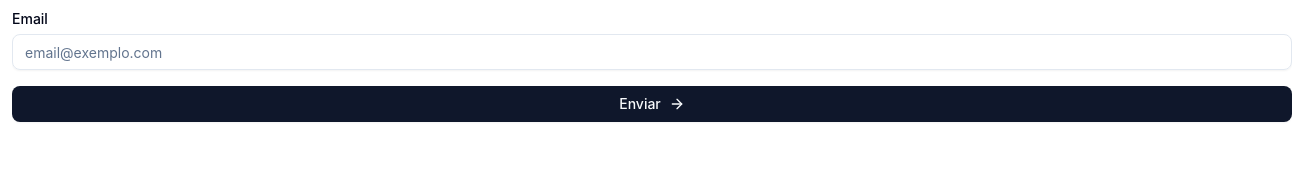
Test case: Development password recovery › shows the failure without a token
The width and height of the screenshot is (1304, 172).
Type "manager@example.test" into the field labelled "Email" at (652, 52), box [12,34,1292,70]
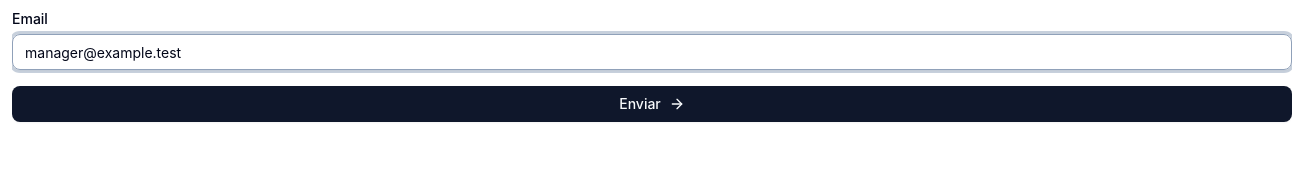
Click the button "Enviar" at (652, 104), box [12,86,1292,122]
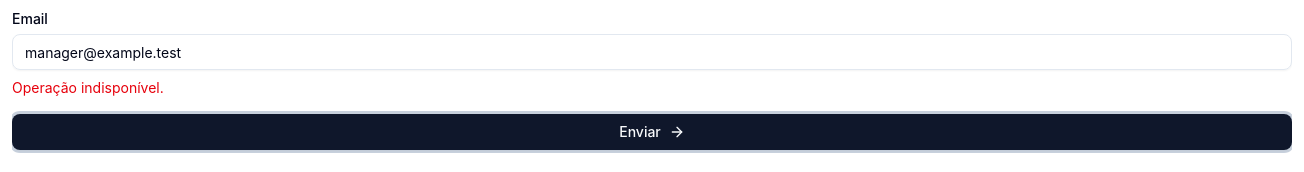
Result: the message reads "Operação indisponível." at [12,79,164,96]
